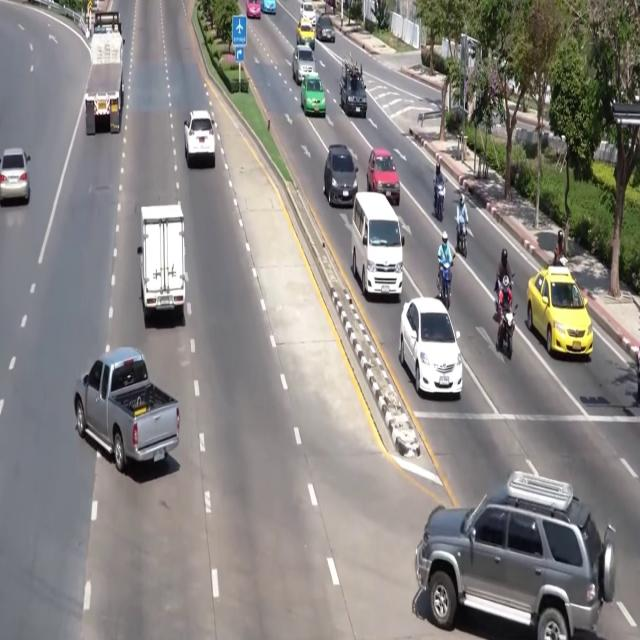car: (415, 472, 615, 639), (399, 297, 462, 398), (526, 266, 593, 356), (323, 144, 357, 206), (367, 148, 400, 206), (184, 111, 215, 167), (0, 148, 30, 203), (301, 73, 325, 117), (292, 46, 315, 85), (315, 15, 335, 42), (297, 20, 315, 49), (300, 1, 316, 26), (246, 0, 261, 18), (262, 0, 276, 15)
scooty: (497, 304, 517, 359), (439, 256, 454, 310), (435, 182, 445, 222), (457, 223, 467, 258), (635, 350, 639, 403), (552, 255, 567, 266)
truck: (74, 347, 179, 472), (137, 204, 186, 324), (85, 12, 124, 135), (340, 59, 367, 117)
